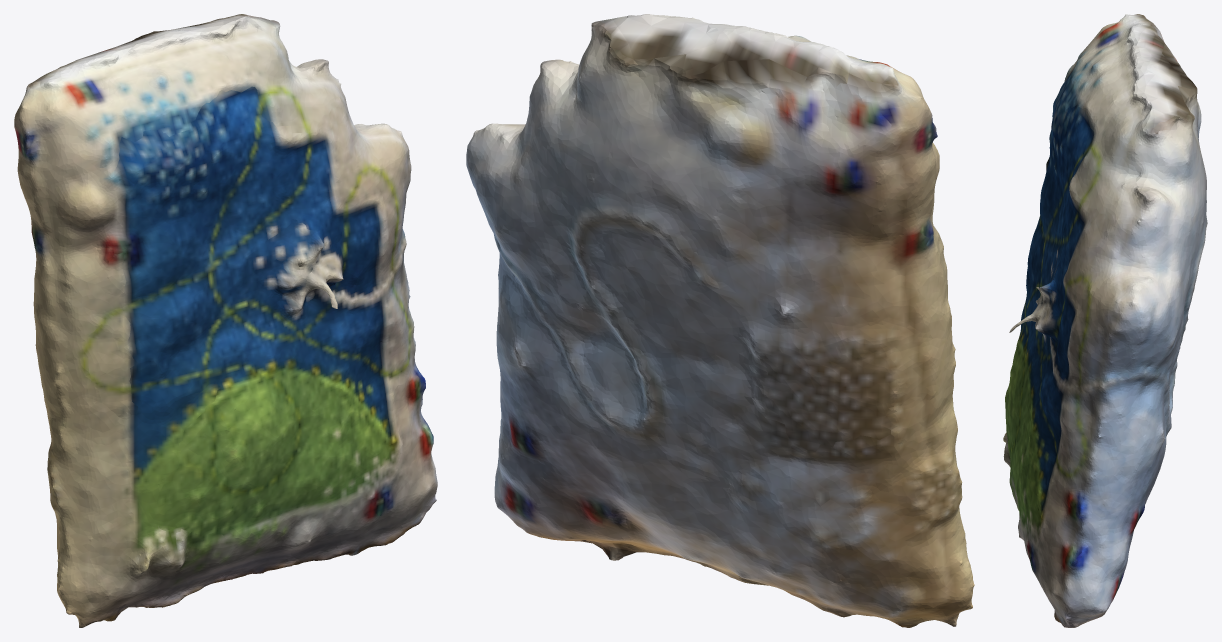
The model's file is IMAGE-CELL.glb.
3 renders of one model, left to right at view 1: azimuth 30°, elevation 25°; view 2: azimuth 150°, elevation 25°; view 3: azimuth 270°, elevation 25°, orthographic. The views are drawn at different scales.
Parts seen in each view (by area): view 1: mesh; view 2: mesh; view 3: mesh.
Part boxes in pixels (bbox=[...]): mesh: bbox=[14, 14, 437, 627]; mesh: bbox=[466, 14, 974, 627]; mesh: bbox=[1003, 14, 1207, 627].
Size of the model in its own units: 0.1003 by 0.1281 by 0.049.
Materials: 1 (1 with a texture image).
